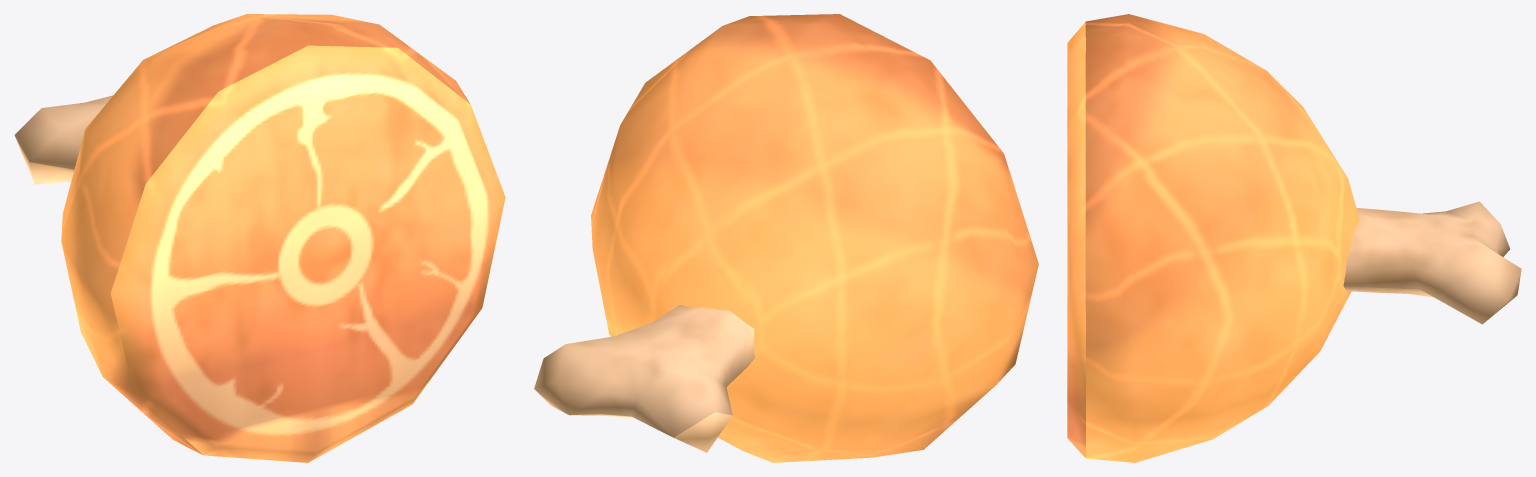
File: SM_Stylized_Food_MeatBone.fbx
3 views of the same model, side by side, from view 1: azimuth 30°, elevation 25°; view 2: azimuth 150°, elevation 25°; view 3: azimuth 270°, elevation 25° (orthographic). The views are drawn at different scales.
Visible parts, largest first — view 1: SM_Stylized_Food_MeatBone_LOD0; view 2: SM_Stylized_Food_MeatBone_LOD0; view 3: SM_Stylized_Food_MeatBone_LOD0.
Part boxes in pixels (box(x1,y1,x2,y2)): SM_Stylized_Food_MeatBone_LOD0: box(14, 14, 505, 462); SM_Stylized_Food_MeatBone_LOD0: box(534, 14, 1038, 462); SM_Stylized_Food_MeatBone_LOD0: box(1067, 14, 1521, 462).
Bounding box in the file's own units: 21.44 × 21.57 × 21.45.
